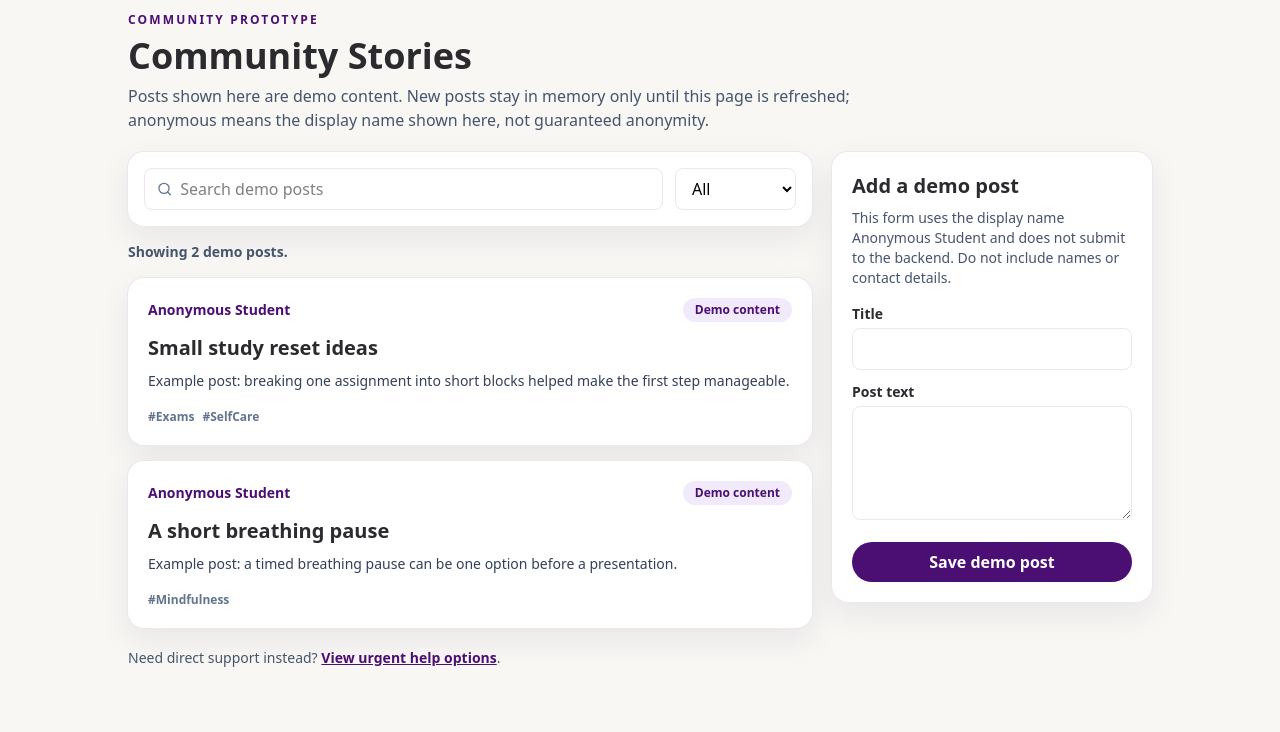
Community and resources critical flows › filters community content and saves a clearly local session post
Type "breathing" into the search field with placeholder "Search demo posts".
click(415, 189); type("breathing")  # box [180, 169, 650, 209]
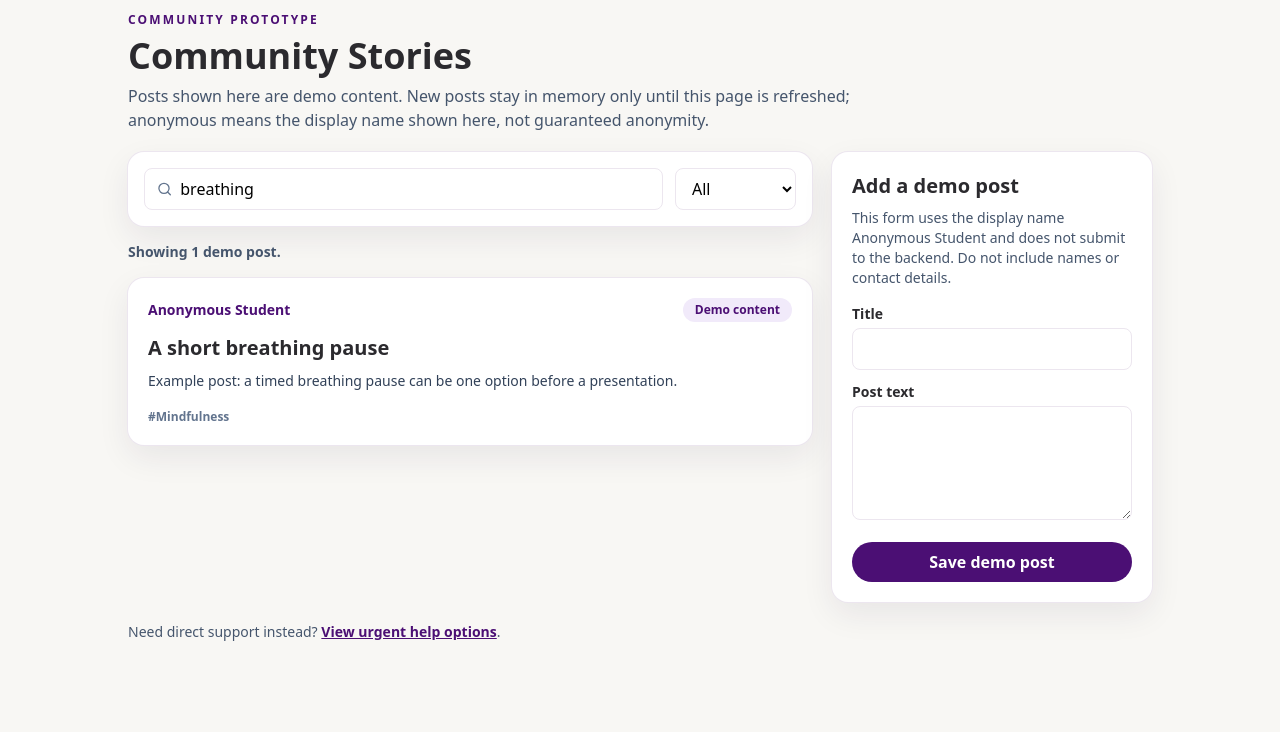
expect the heading "A short breathing pause" is shown: met, box [148, 334, 389, 361]
expect the heading "Small study reset ideas" is gone: met
Click the button "Save demo post".
click(992, 562)  # box [852, 542, 1132, 582]
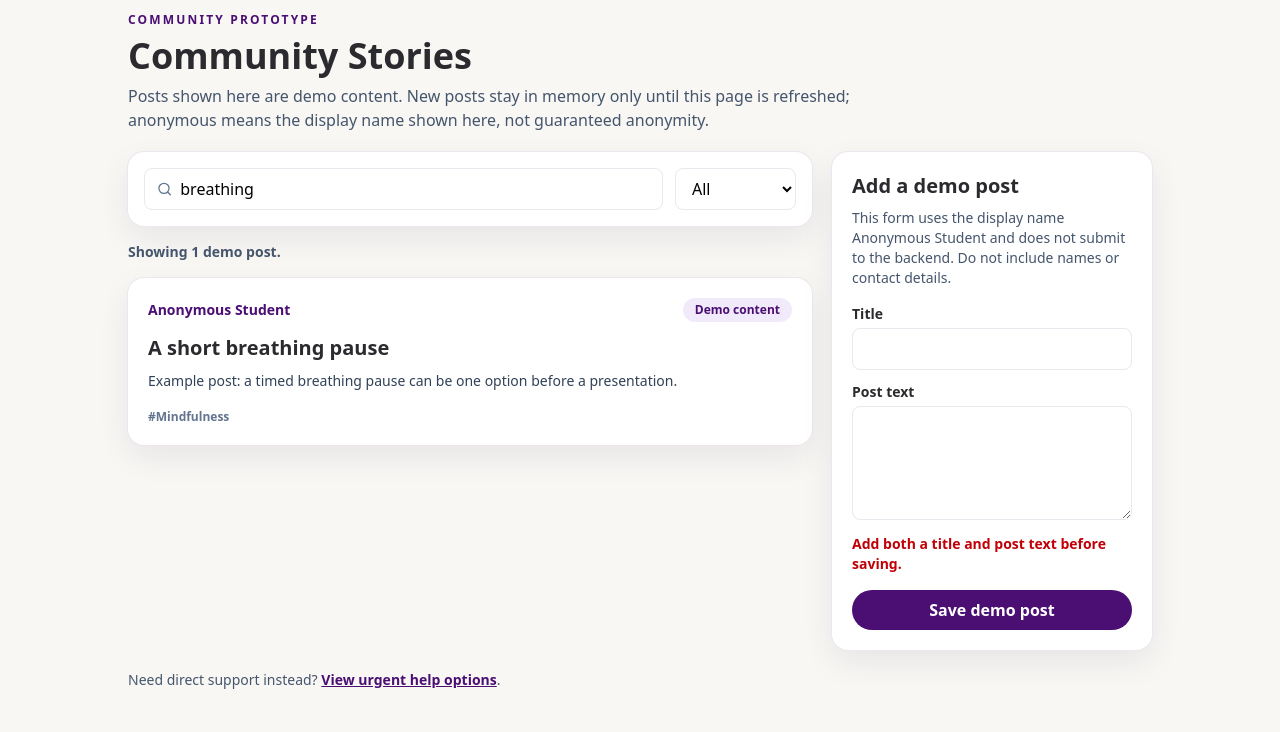
expect the message shows "both a title and post text": met, box [852, 534, 1106, 573]
Type "My example" into the field labelled "Title".
click(992, 349); type("My example")  # box [852, 328, 1132, 370]
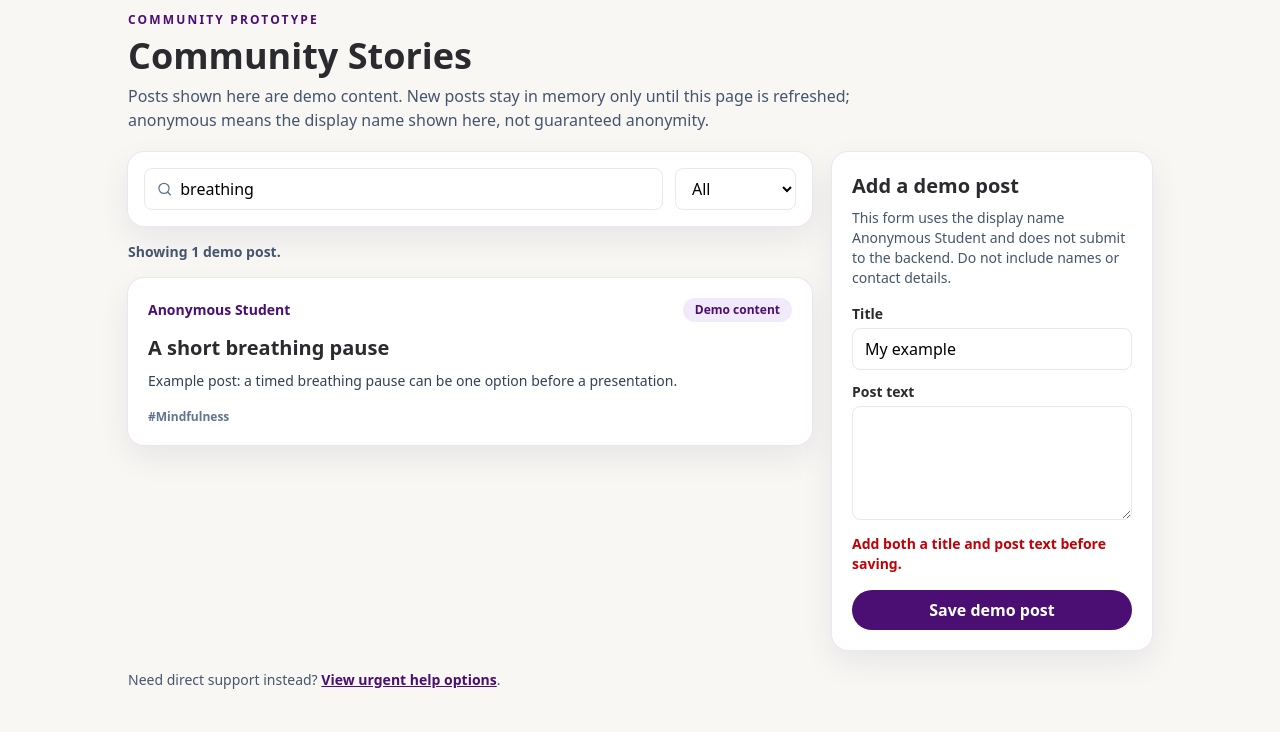
Type "This is a local demo note." into the text box labelled "Post text".
click(992, 463); type("This is a local demo note.")  # box [852, 406, 1132, 520]
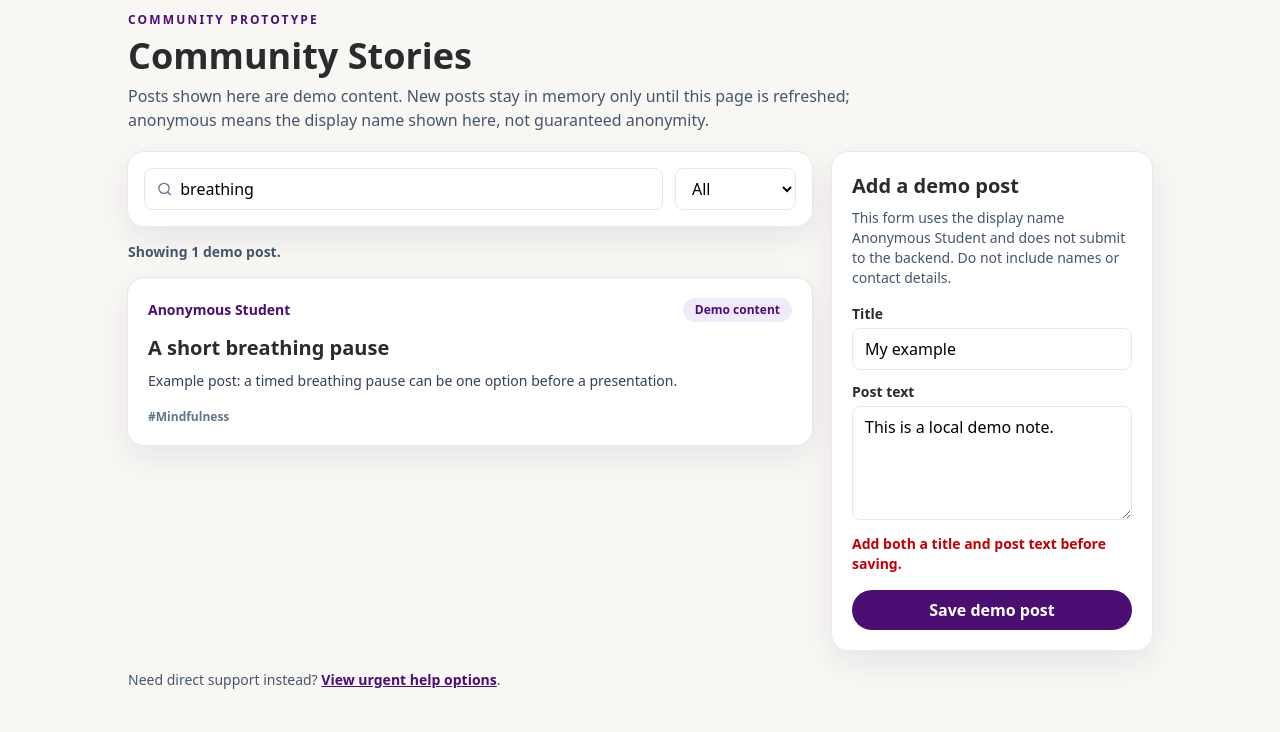
Click the button "Save demo post".
click(992, 610)  # box [852, 590, 1132, 630]
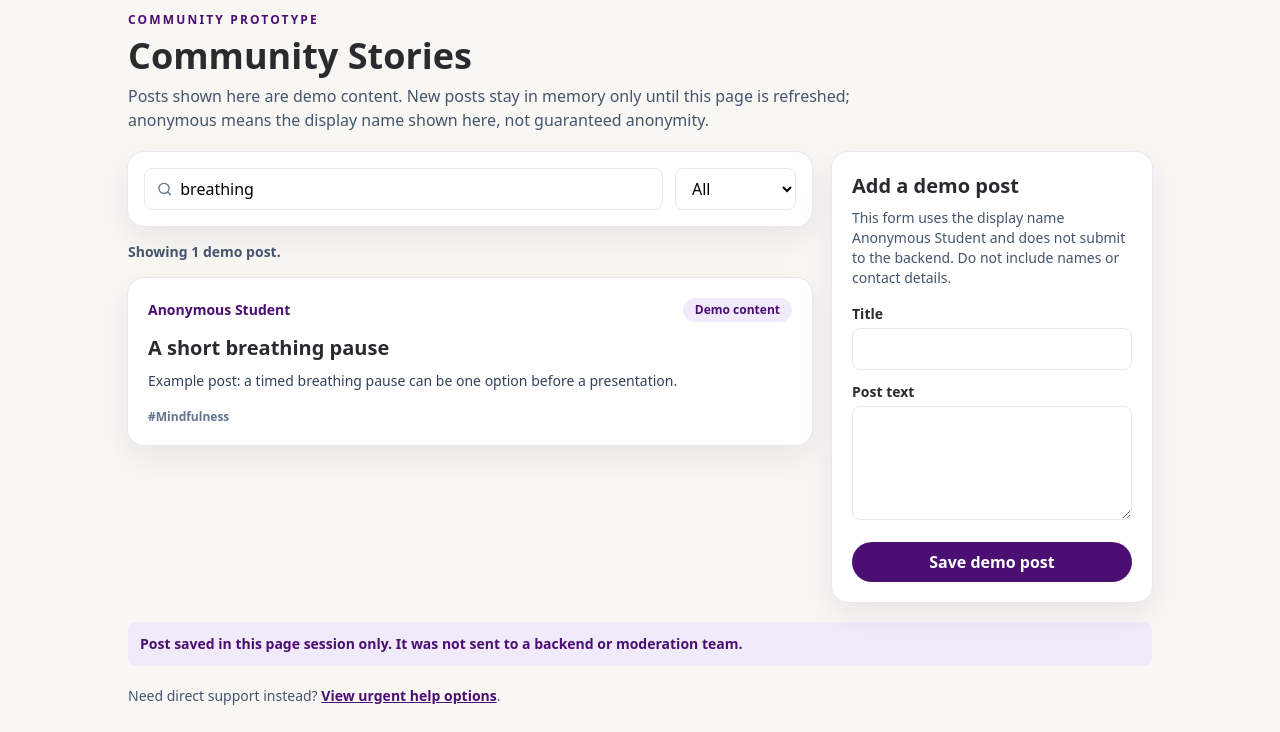
expect the message shows "not sent to a backend": met, box [140, 634, 742, 653]
